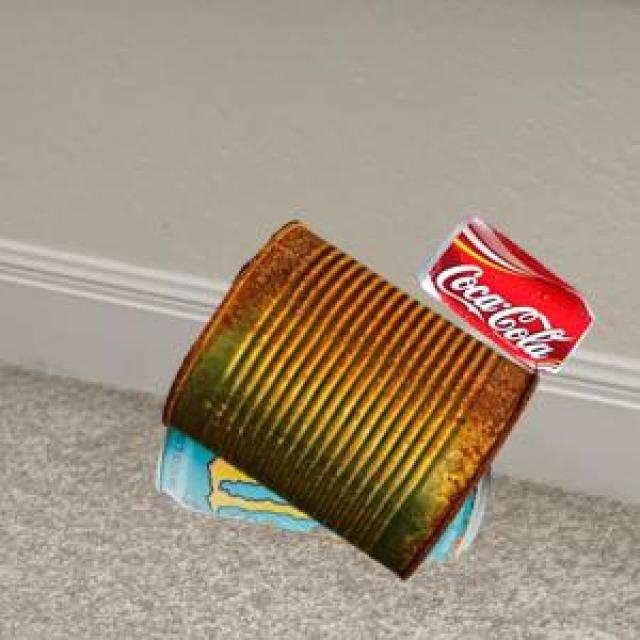logam: (159, 219, 534, 577), (153, 423, 485, 556), (419, 214, 592, 370)
